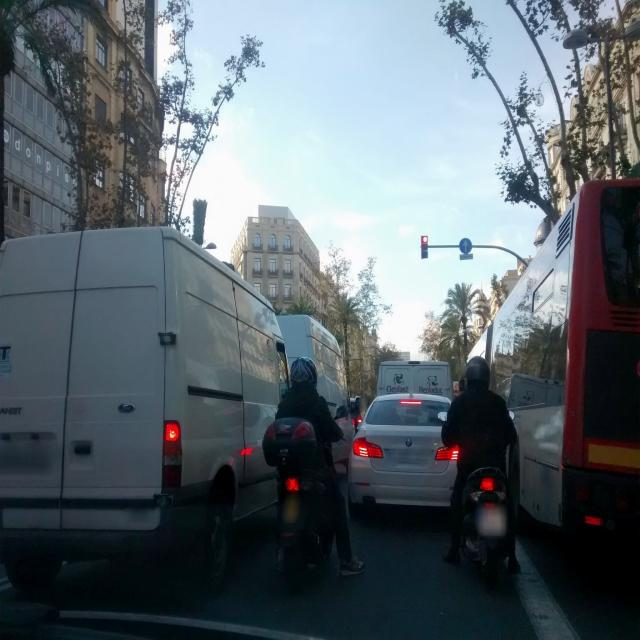bike: (264, 420, 364, 586), (440, 420, 521, 590)
car: (0, 226, 291, 596), (347, 392, 459, 520), (377, 360, 453, 400)
